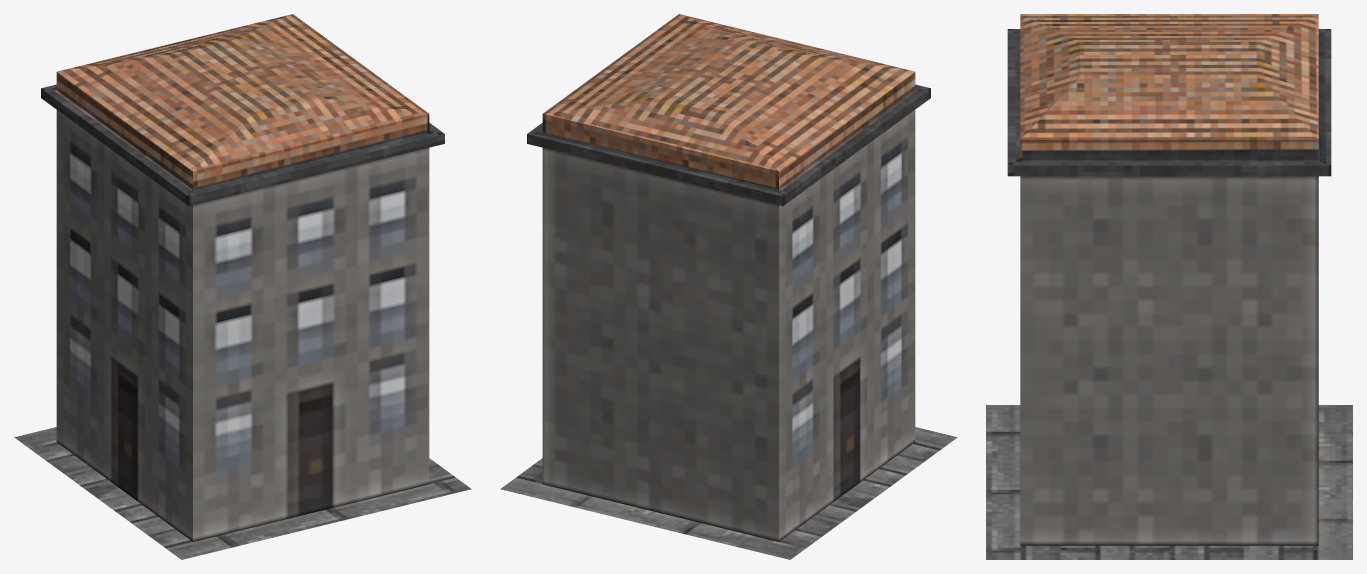
Rendered from Residential_02.obj.
3 renders of one model, left to right at view 1: azimuth 30°, elevation 25°; view 2: azimuth 150°, elevation 25°; view 3: azimuth 270°, elevation 25°, orthographic. The views are drawn at different scales.
Visible parts, largest first — view 1: Building, Tile; view 2: Building, Tile; view 3: Building, Tile.
Boxes of the visible parts, <box> form: Building: <box>41,14,444,541</box>; Tile: <box>14,427,471,559</box>; Building: <box>527,14,930,541</box>; Tile: <box>500,427,957,559</box>; Building: <box>1007,14,1331,545</box>; Tile: <box>986,405,1352,559</box>.
Bounding box in the file's own units: 128 × 163 × 128.
